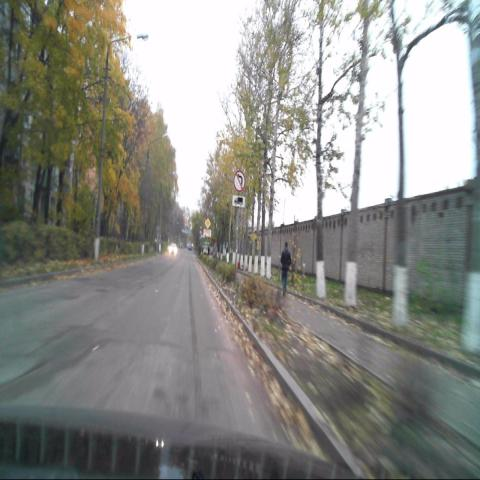3_18_2: (233, 170, 246, 192)
